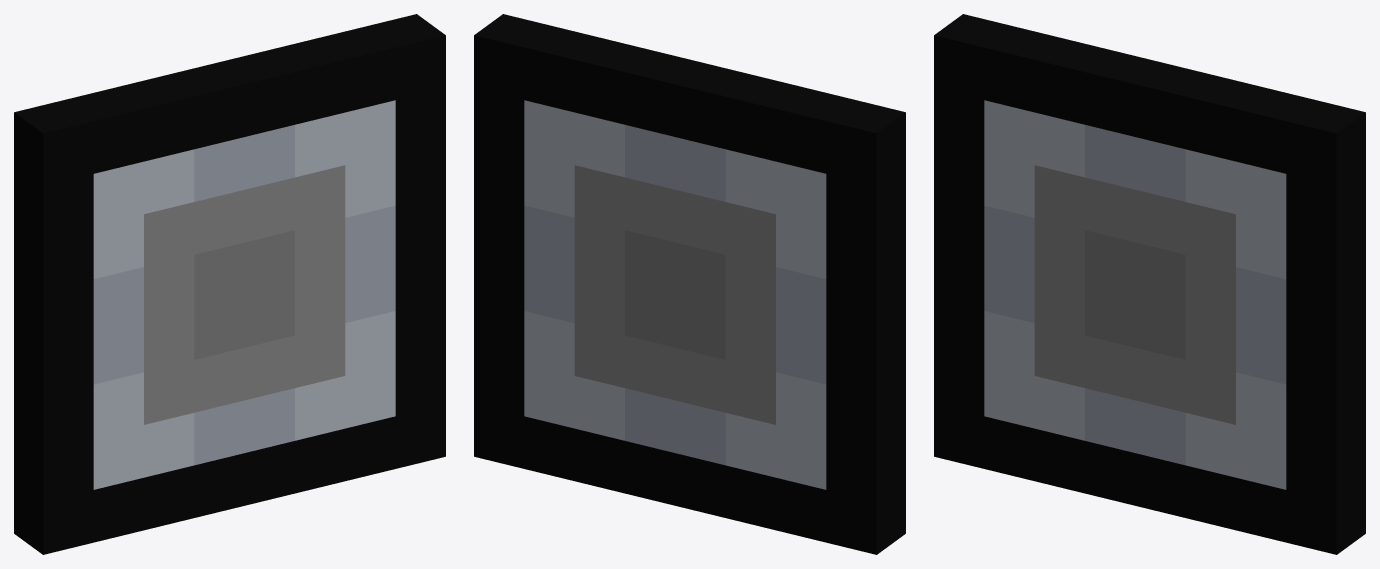
Rendered from Landing Pad.glb.
The picture shows the model from 3 angles, left to right: view 1: azimuth 30°, elevation 25°; view 2: azimuth 150°, elevation 25°; view 3: azimuth 330°, elevation 25°; orthographic projection.
Visible parts, largest first — view 1: generated(Clone); view 2: generated(Clone); view 3: generated(Clone).
Part boxes in pixels (x1,y1,x2,y2): generated(Clone): (14, 14, 445, 554); generated(Clone): (474, 14, 905, 554); generated(Clone): (934, 14, 1365, 554).
Bounding box in the file's own units: 8 × 8 × 1.
1 material, 1 textured.
